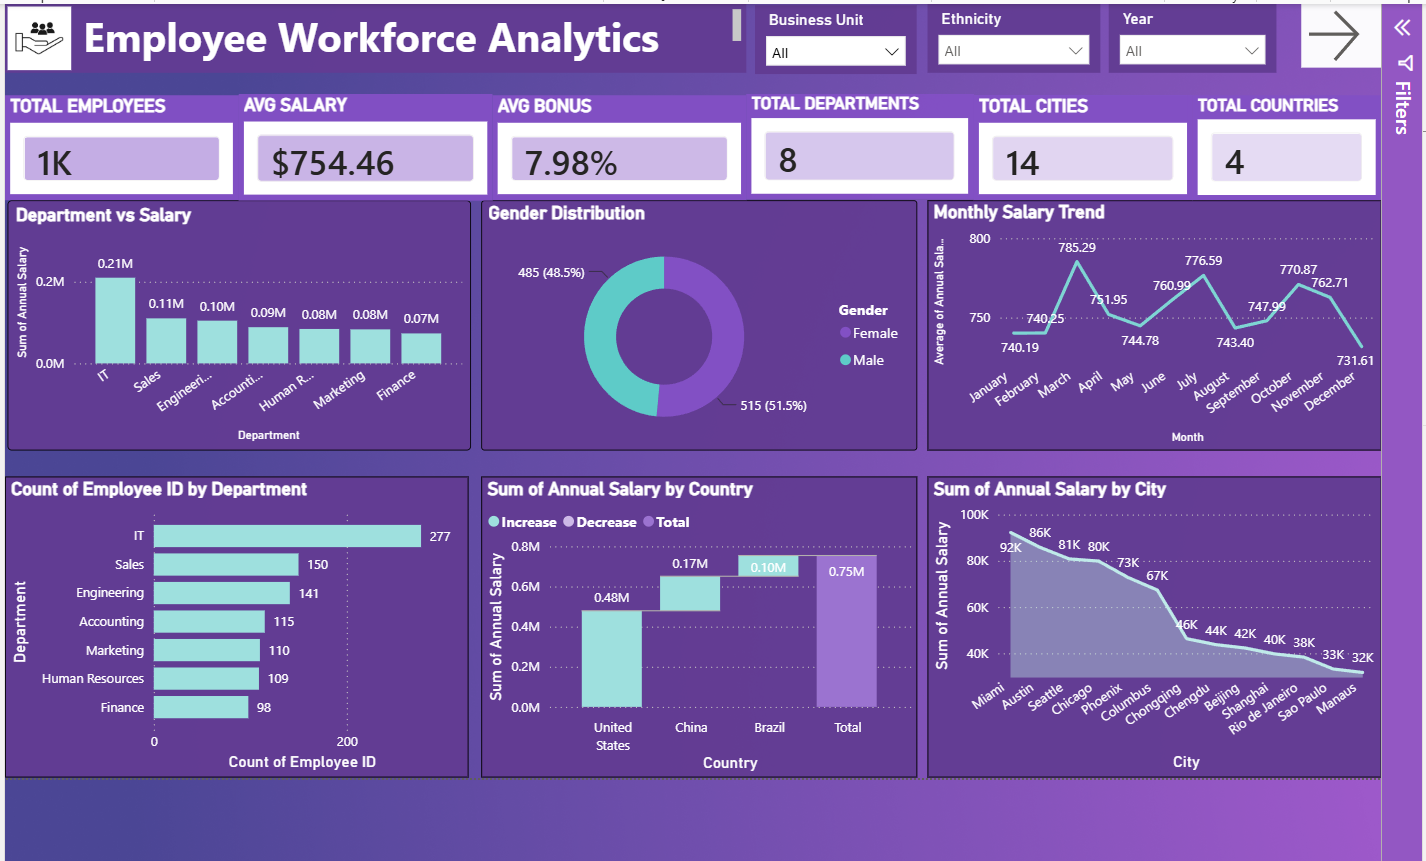

What the dashboard file says about the page in this screenshot:
{"tool":"powerbi","page":{"name":"Page 1","canvas":[1280,720],"ordinal":0},"visuals":[{"type":"textbox","box":[0,0,689.5,64],"z":0},{"type":"clusteredColumnChart","title":"Department vs Salary","fields":{"Category":["Employee Data.Department"],"Y":["Sum(Employee Data.Annual Salary)"]},"box":[2.3,182.6,431.4,232.6],"z":1000},{"type":"donutChart","title":"Gender Distribution","fields":{"Category":["Employee Data.Gender"],"Y":["CountNonNull(Employee Data.Employee ID)"]},"box":[443,182.6,405.8,232.6],"z":2000},{"type":"lineChart","title":"Monthly Salary Trend","fields":{"Category":["Employee Data.Hire Date.Variation.Date Hierarchy.Month"],"Y":["Avg(Employee Data.Annual Salary)"]},"box":[858.1,182.6,422.1,232.6],"z":3000},{"type":"clusteredBarChart","fields":{"Category":["Employee Data.Department"],"Y":["CountNonNull(Employee Data.Employee ID)"]},"box":[0,439.5,431.4,280.2],"z":4000},{"type":"waterfallChart","fields":{"Category":["Employee Data.Country"],"Y":["Sum(Employee Data.Annual Salary)"]},"box":[443,439.5,405.8,280.2],"z":5000},{"type":"areaChart","fields":{"Category":["Employee Data.City"],"Y":["Sum(Employee Data.Annual Salary)"]},"box":[858.1,439.5,422.1,280.2],"z":6000},{"type":"cardVisual","title":"TOTAL EMPLOYEES","fields":{"Data":["Employee Data.Total Employees"]},"box":[0,84.9,217.4,97.7],"z":7000},{"type":"cardVisual","title":"AVG SALARY","fields":{"Data":["Employee Data.Avg Salary"]},"box":[217.4,83.7,236,98.8],"z":8000},{"type":"cardVisual","title":"TOTAL DEPARTMENTS","fields":{"Data":["Employee Data.Total Departments"]},"box":[689.5,83.7,211.6,97.7],"z":9000},{"type":"cardVisual","title":"AVG BONUS","fields":{"Data":["Employee Data.Avg Bonus"]},"box":[453.5,84.9,236,97.7],"z":10000},{"type":"cardVisual","title":"TOTAL CITIES","fields":{"Data":["Employee Data.Total Cities"]},"box":[901.2,84.9,203.5,97.7],"z":11000},{"type":"cardVisual","title":"TOTAL COUNTRIES","fields":{"Data":["Employee Data.Total Countries"]},"box":[1104.7,84.9,175.6,97.7],"z":12000},{"type":"image","box":[0,2.3,64,59.3],"z":13000},{"type":"actionButton","box":[1205.8,0,74.4,59.3],"z":14000},{"type":"slicer","fields":{"Values":["Employee Data.Business Unit"]},"box":[697.7,1.2,150,64],"z":15000},{"type":"slicer","fields":{"Values":["Employee Data.Ethnicity"]},"box":[858.1,0,160.5,64],"z":16000},{"type":"slicer","fields":{"Values":["Employee Data.Hire Date.Variation.Date Hierarchy.Year"]},"box":[1026.7,0,155.8,64],"z":17000}]}

Visuals, with their boxes on the page's 1280x720 design canvas (x1, y1, x2, y2). These are canvas units, not pixel positions in the 1426x861 screenshot, which may show the page scaled, cropped or inside an application window:
textbox: Rect(0, 0, 690, 64)
"Department vs Salary" clusteredColumnChart: Rect(2, 183, 434, 415)
"Gender Distribution" donutChart: Rect(443, 183, 849, 415)
"Monthly Salary Trend" lineChart: Rect(858, 183, 1280, 415)
clusteredBarChart - Employee Data.Department x CountNonNull(Employee Data.Employee ID): Rect(0, 440, 431, 720)
waterfallChart - Employee Data.Country x Sum(Employee Data.Annual Salary): Rect(443, 440, 849, 720)
areaChart - Employee Data.City x Sum(Employee Data.Annual Salary): Rect(858, 440, 1280, 720)
"TOTAL EMPLOYEES" cardVisual: Rect(0, 85, 217, 183)
"AVG SALARY" cardVisual: Rect(217, 84, 453, 182)
"TOTAL DEPARTMENTS" cardVisual: Rect(690, 84, 901, 181)
"AVG BONUS" cardVisual: Rect(454, 85, 690, 183)
"TOTAL CITIES" cardVisual: Rect(901, 85, 1105, 183)
"TOTAL COUNTRIES" cardVisual: Rect(1105, 85, 1280, 183)
image: Rect(0, 2, 64, 62)
actionButton: Rect(1206, 0, 1280, 59)
slicer - Employee Data.Business Unit: Rect(698, 1, 848, 65)
slicer - Employee Data.Ethnicity: Rect(858, 0, 1019, 64)
slicer - Employee Data.Hire Date.Variation.Date Hierarchy.Year: Rect(1027, 0, 1182, 64)
